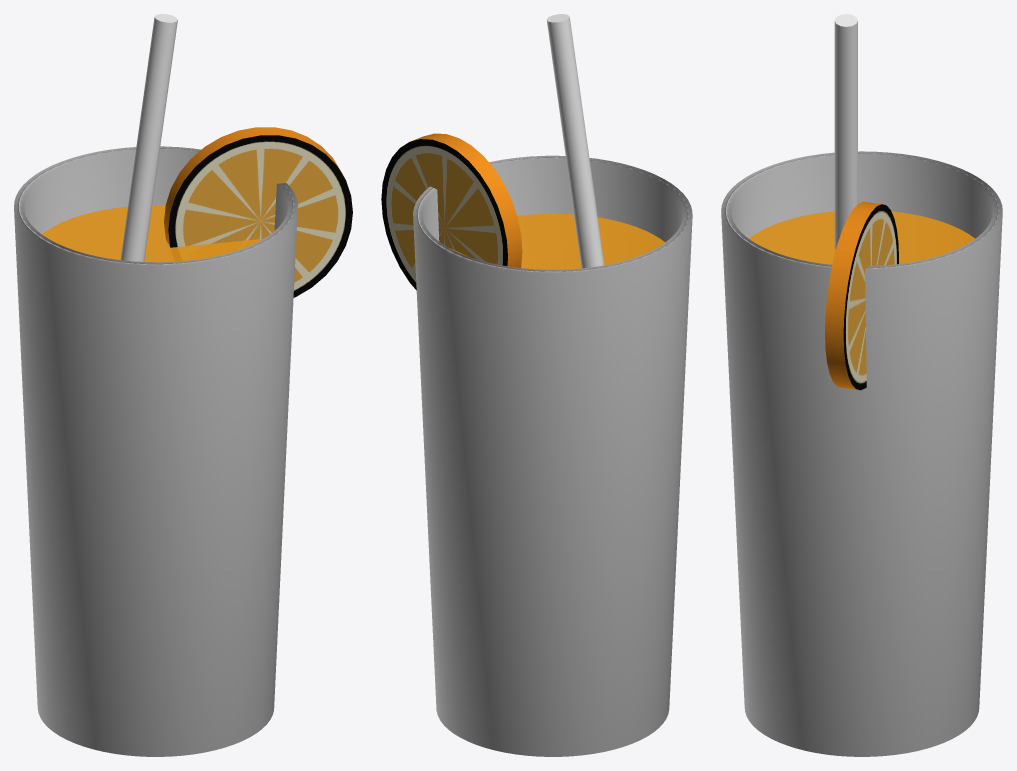
The model's file is suco-laranja.glb.
The picture shows the model from 3 angles, left to right: view 1: azimuth 30°, elevation 25°; view 2: azimuth 150°, elevation 25°; view 3: azimuth 270°, elevation 25°; orthographic projection.
Bounding box in the file's own units: 0.0897 × 0.1945 × 0.072.
Materials: 6 (2 with a texture image).
